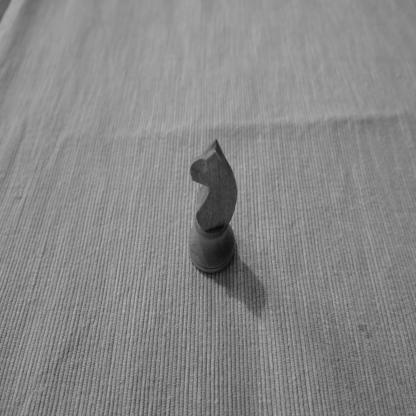white-knight: (188, 137, 238, 276)
